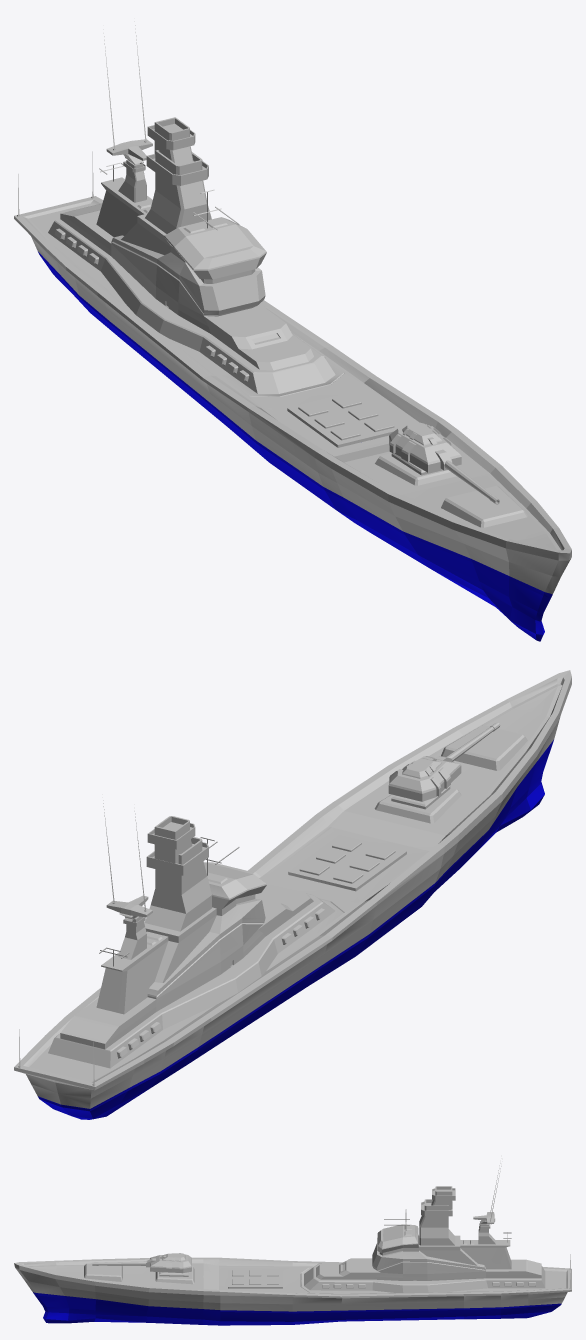
File: middle_modern2.fbx
3 views of the same model, one above another, from view 1: azimuth 30°, elevation 25°; view 2: azimuth 150°, elevation 25°; view 3: azimuth 270°, elevation 25° (orthographic). The views are drawn at different scales.
Visible parts, largest first — view 1: middle_modern2; view 2: middle_modern2; view 3: middle_modern2.
Boxes of the visible parts, box(x1,y1,x2,y2) form: middle_modern2: box(14, 21, 571, 641); middle_modern2: box(14, 670, 571, 1119); middle_modern2: box(14, 1163, 571, 1325).
Size of the model in its own units: 652 by 1510 by 4481.
